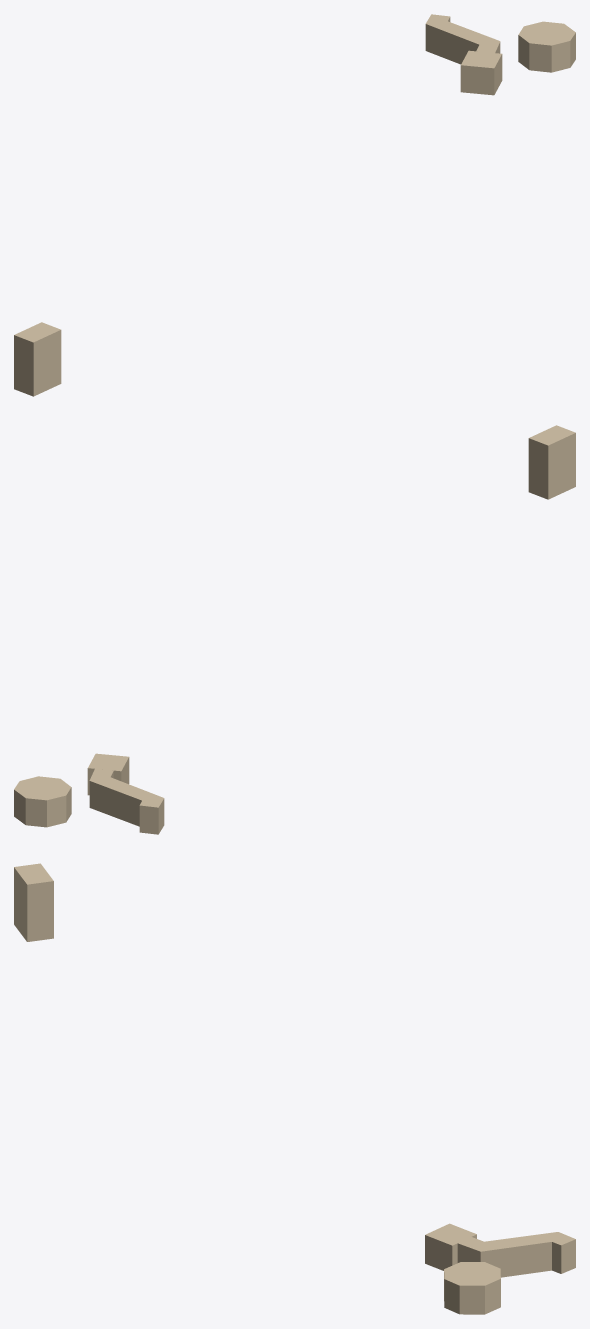
File: -5_4-estimated-coarse.glb
3 renders of one model, top to bottom at view 1: azimuth 30°, elevation 25°; view 2: azimuth 210°, elevation 25°; view 3: azimuth 270°, elevation 25°, orthographic. The views are drawn at different scales.
Size of the model in its own units: 176 by 12 by 106.
